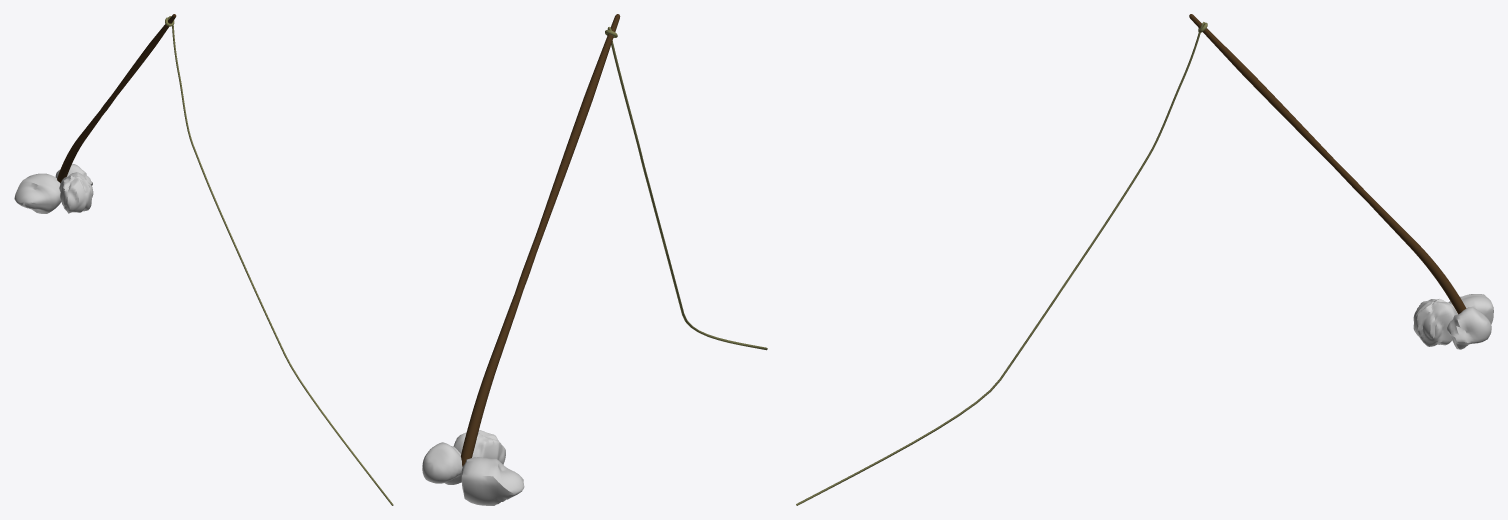
File: angel.fbx
The picture shows the model from 3 angles, left to right: view 1: azimuth 30°, elevation 25°; view 2: azimuth 150°, elevation 25°; view 3: azimuth 270°, elevation 25°; orthographic projection. The views are drawn at different scales.
Parts seen in each view (by area): view 1: stein_c, rute, seil, stein_b; view 2: rute, stein_c, stein_a, seil, stein_b; view 3: rute, seil, stein_b, stein_a.
Boxes of the visible parts, <box> form: stein_c: <box>14,173,61,213</box>; rute: <box>57,14,176,182</box>; seil: <box>168,16,393,505</box>; stein_b: <box>59,172,93,213</box>; rute: <box>461,14,620,466</box>; stein_c: <box>461,457,524,505</box>; stein_a: <box>422,442,462,484</box>; seil: <box>607,27,767,350</box>; stein_b: <box>453,430,505,464</box>; rute: <box>1189,14,1466,314</box>; seil: <box>796,22,1205,505</box>; stein_b: <box>1413,299,1458,346</box>; stein_a: <box>1447,307,1491,349</box>.
Size of the model in its own units: 98.51 by 371 by 510.
